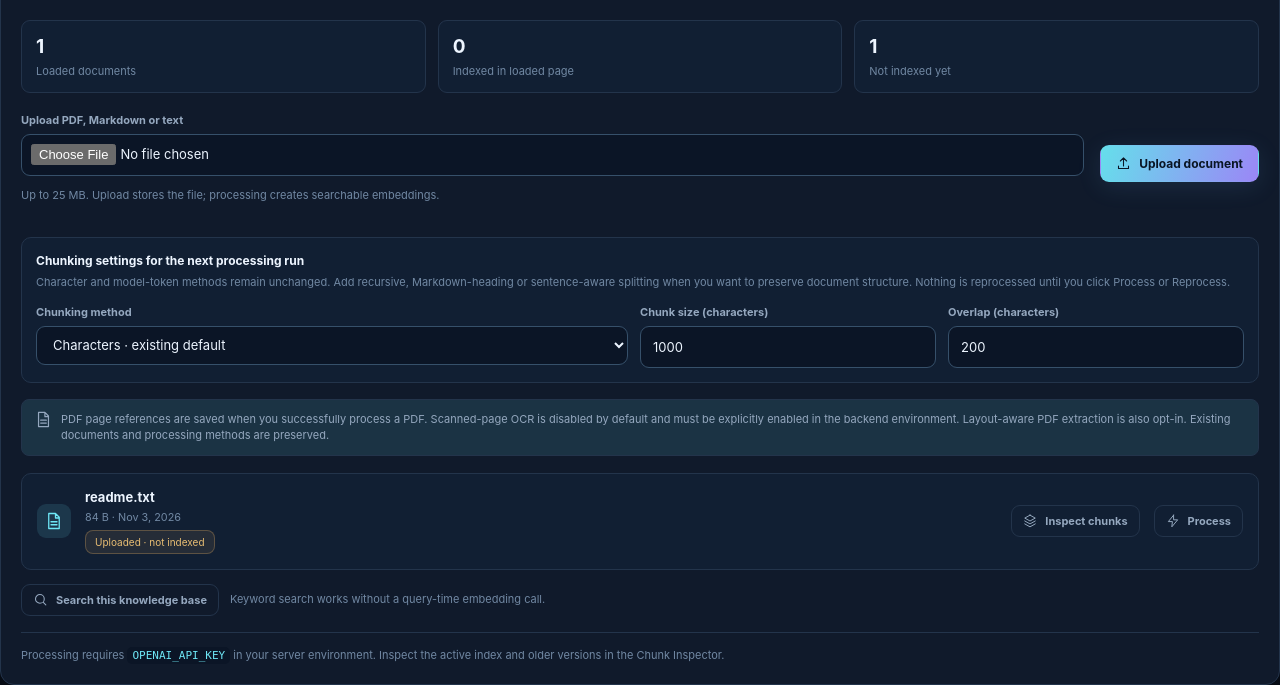
live source management › processes a document and shows the persisted active version
The image size is (1280, 685).
(page scrolled)
Expected: the text "readme.txt" is shown, top-left (85, 489), bottom-right (155, 505)
What coordinates should you click on to do the following:
click the button "Process"
I would click on:
 (1198, 521)
Its box is top-left (1154, 505), bottom-right (1243, 537).
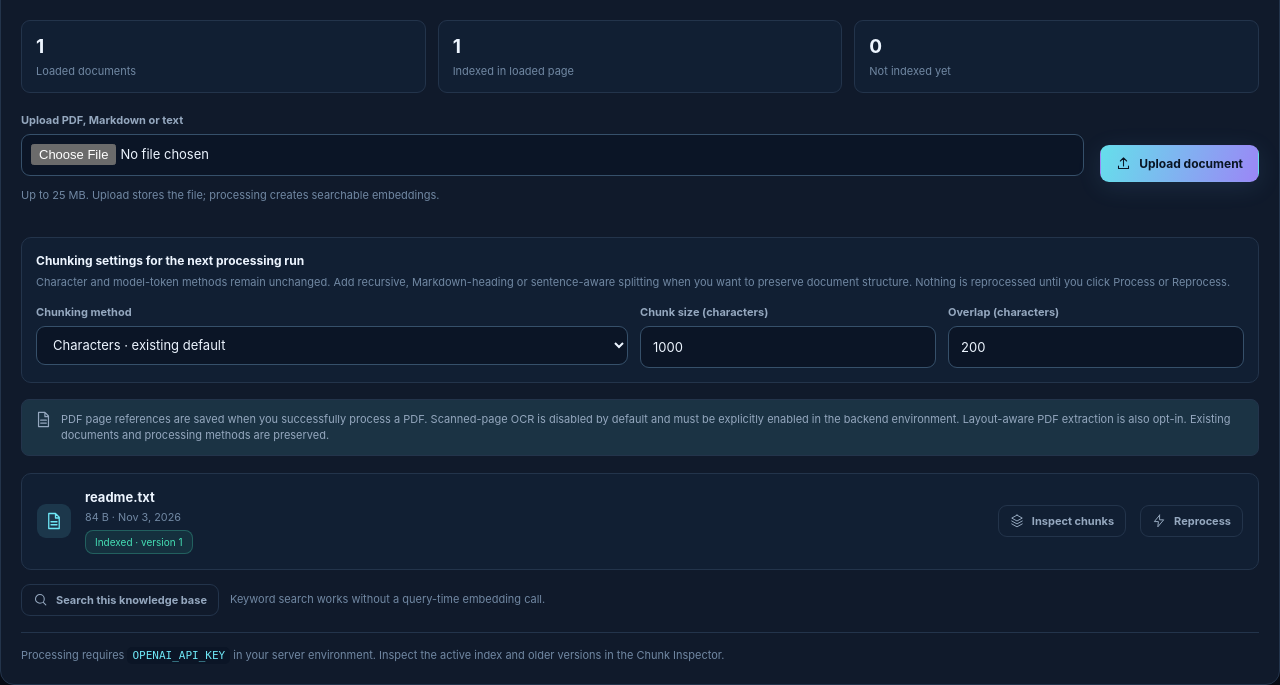
Now the text "Indexed · version 1" is shown, box top-left (85, 530), bottom-right (192, 554)
